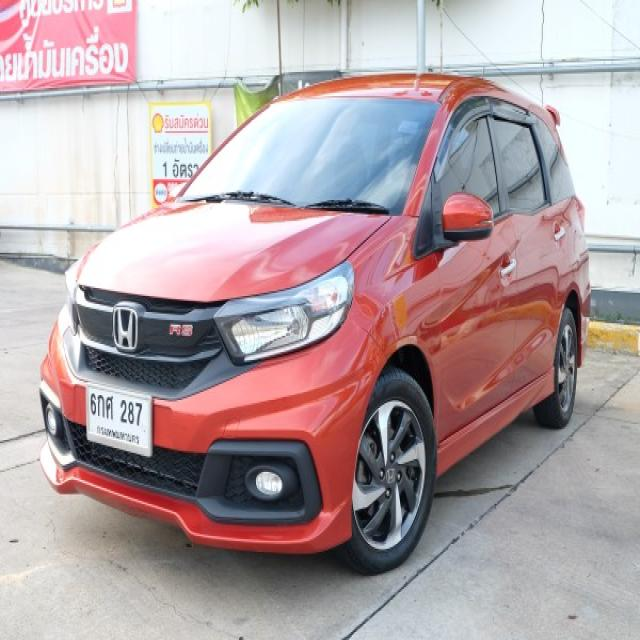license_plate: (86, 378, 156, 459)
